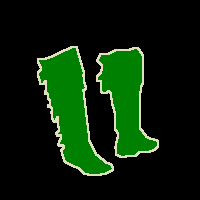shoe: (37, 46, 113, 175), (96, 48, 158, 157)
